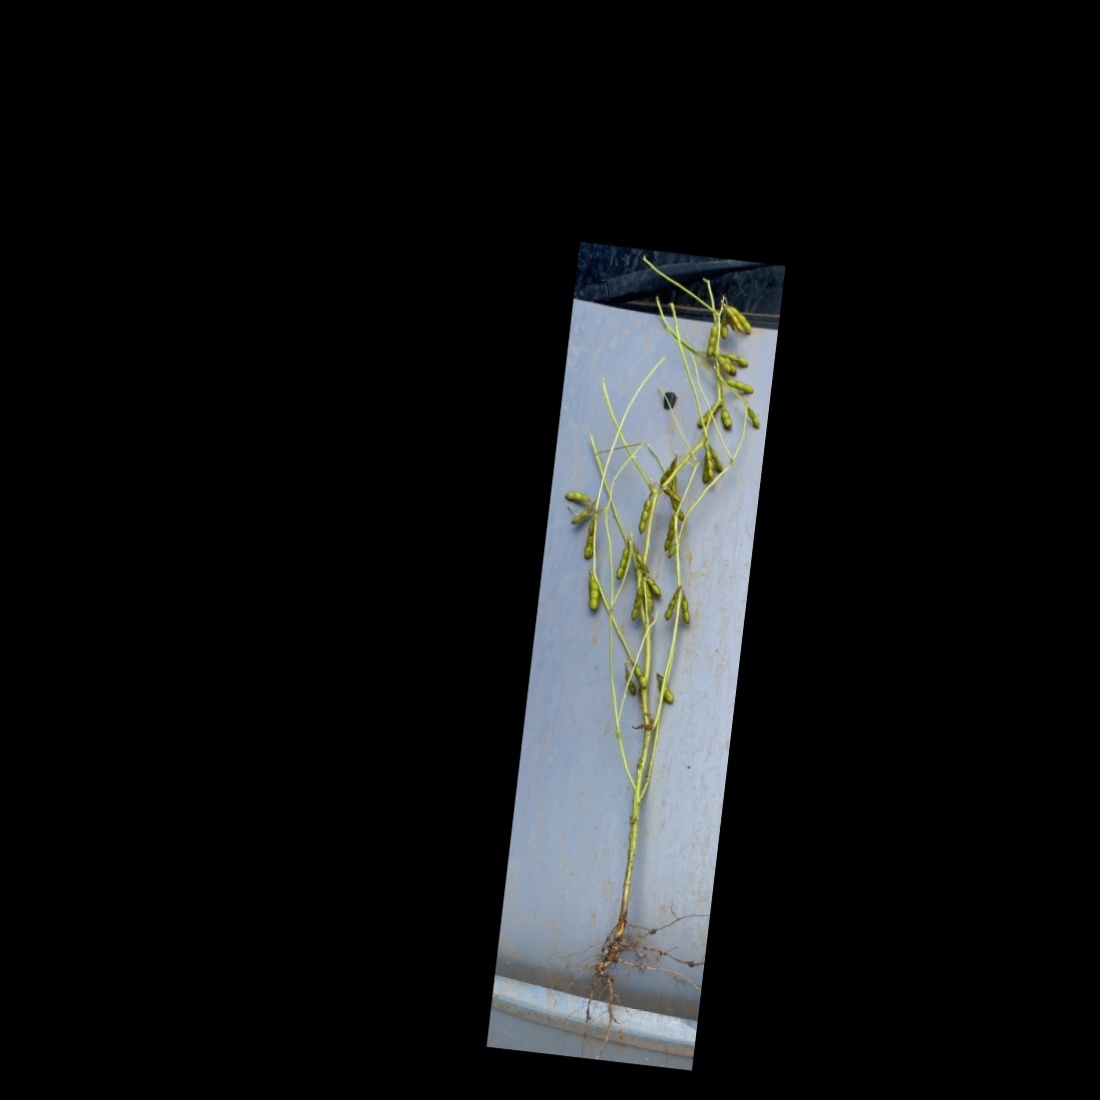pod: (581, 567, 603, 613), (633, 491, 654, 538), (652, 670, 679, 706), (568, 499, 594, 529), (579, 519, 597, 562), (627, 584, 646, 625), (659, 515, 677, 555), (720, 376, 757, 396), (563, 483, 594, 505), (612, 544, 630, 584), (676, 593, 696, 626), (702, 322, 719, 359), (630, 663, 652, 690), (662, 589, 678, 625), (717, 403, 736, 430), (743, 403, 761, 431), (717, 311, 732, 342)
soy: (505, 262, 775, 1000)
